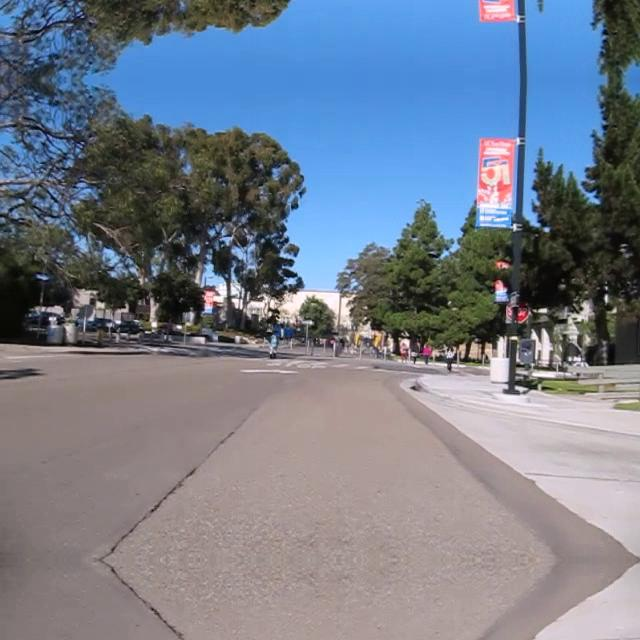stop: (505, 296, 529, 324)
